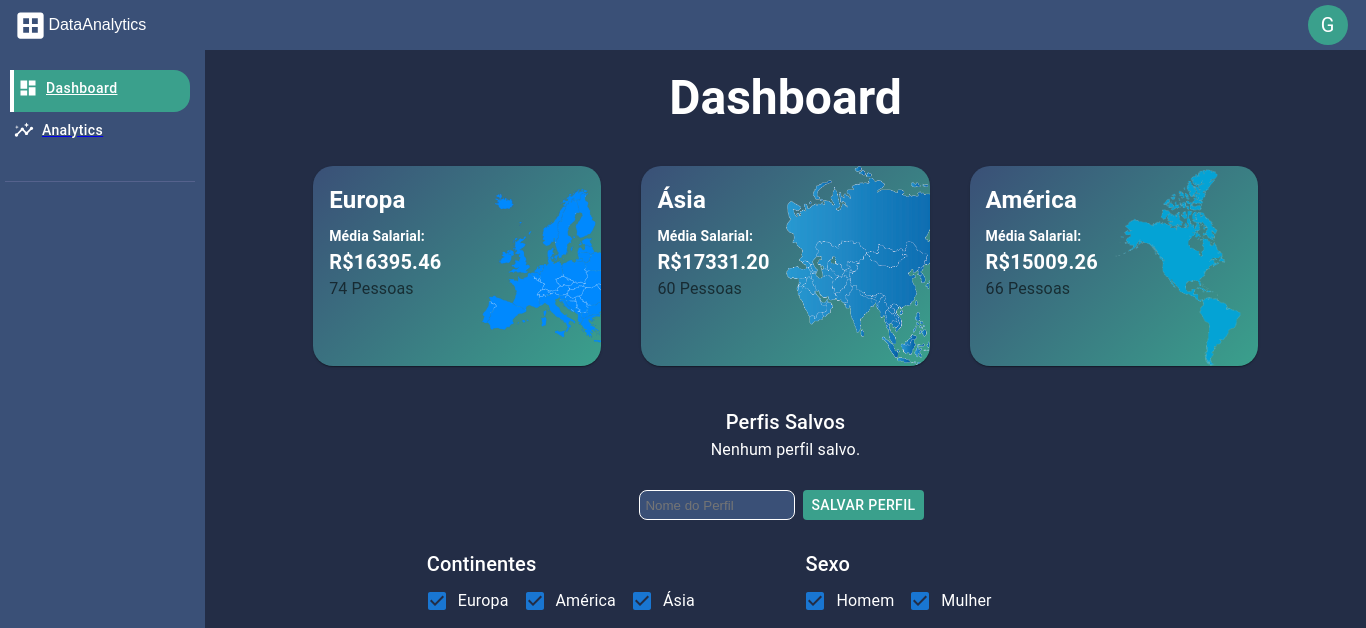
Test: DashboardContent Tests › Displays error message when profile name is empty
Click the button "Salvar Perfil" at (864, 505), box [804, 490, 924, 520]
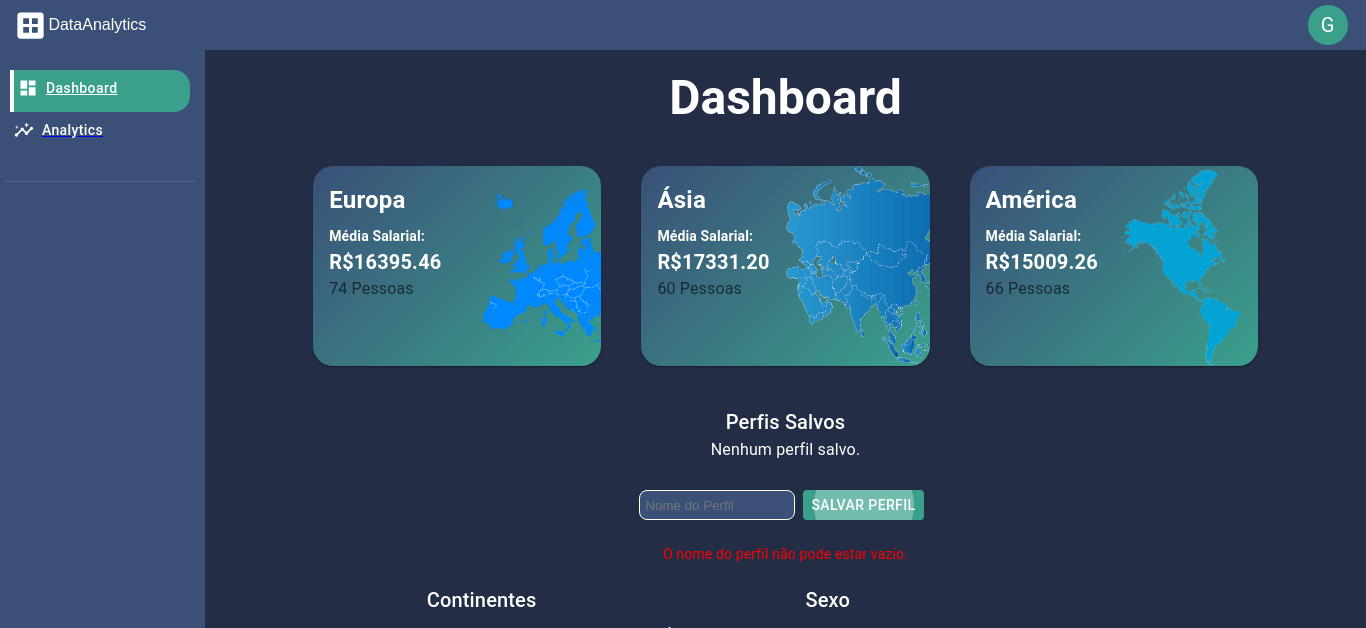
Expected: the text "O nome do perfil não pode estar vazio." is shown, [663, 544, 908, 564]
